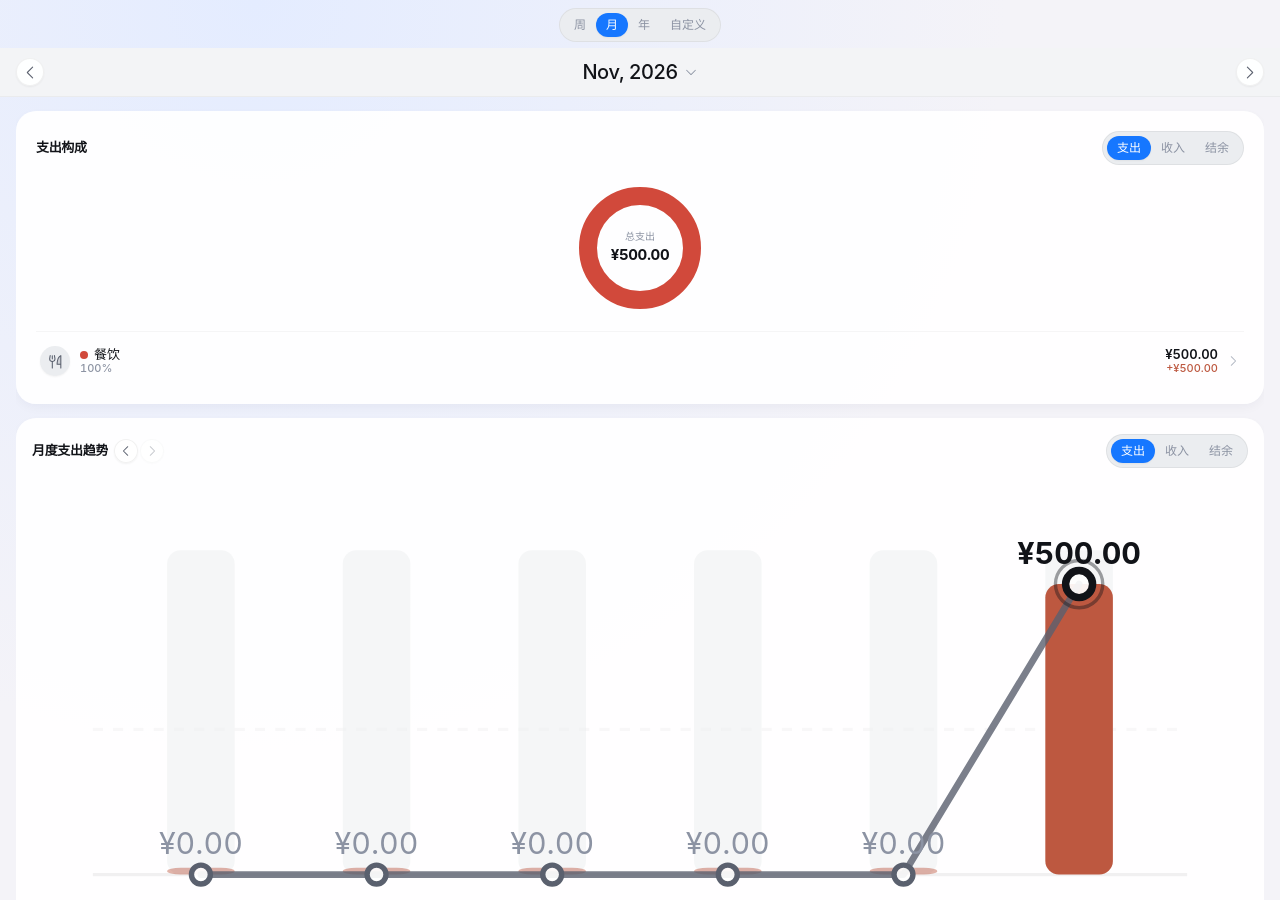
Test: Modular Stats & UI Components › supports custom date range mode and opens date picker modal on center date click
Click the button "自定义" at coordinates (688, 25), box [660,13,716,37]
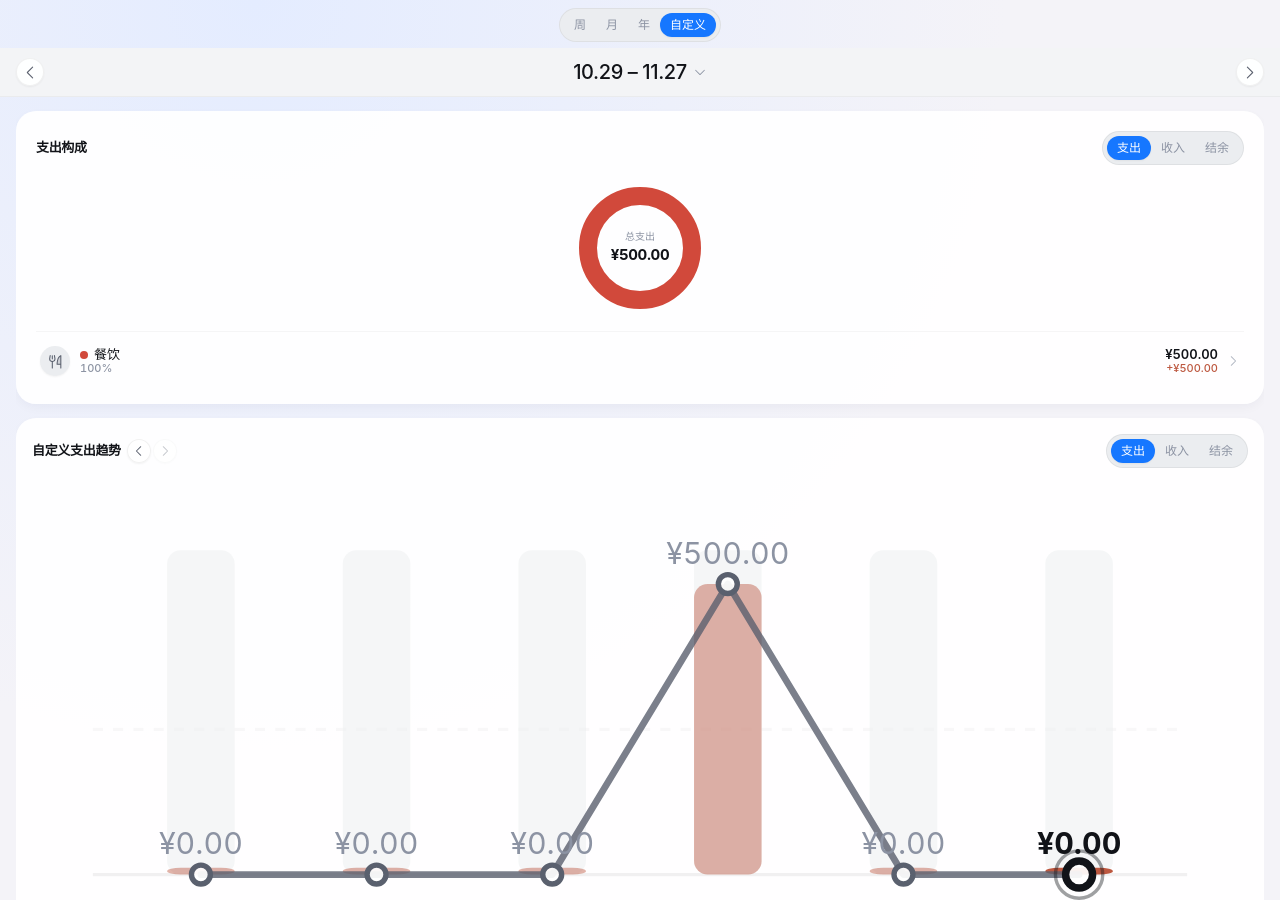
Click the button titled "点击选择日期" at coordinates (640, 72), box [563,54,717,90]
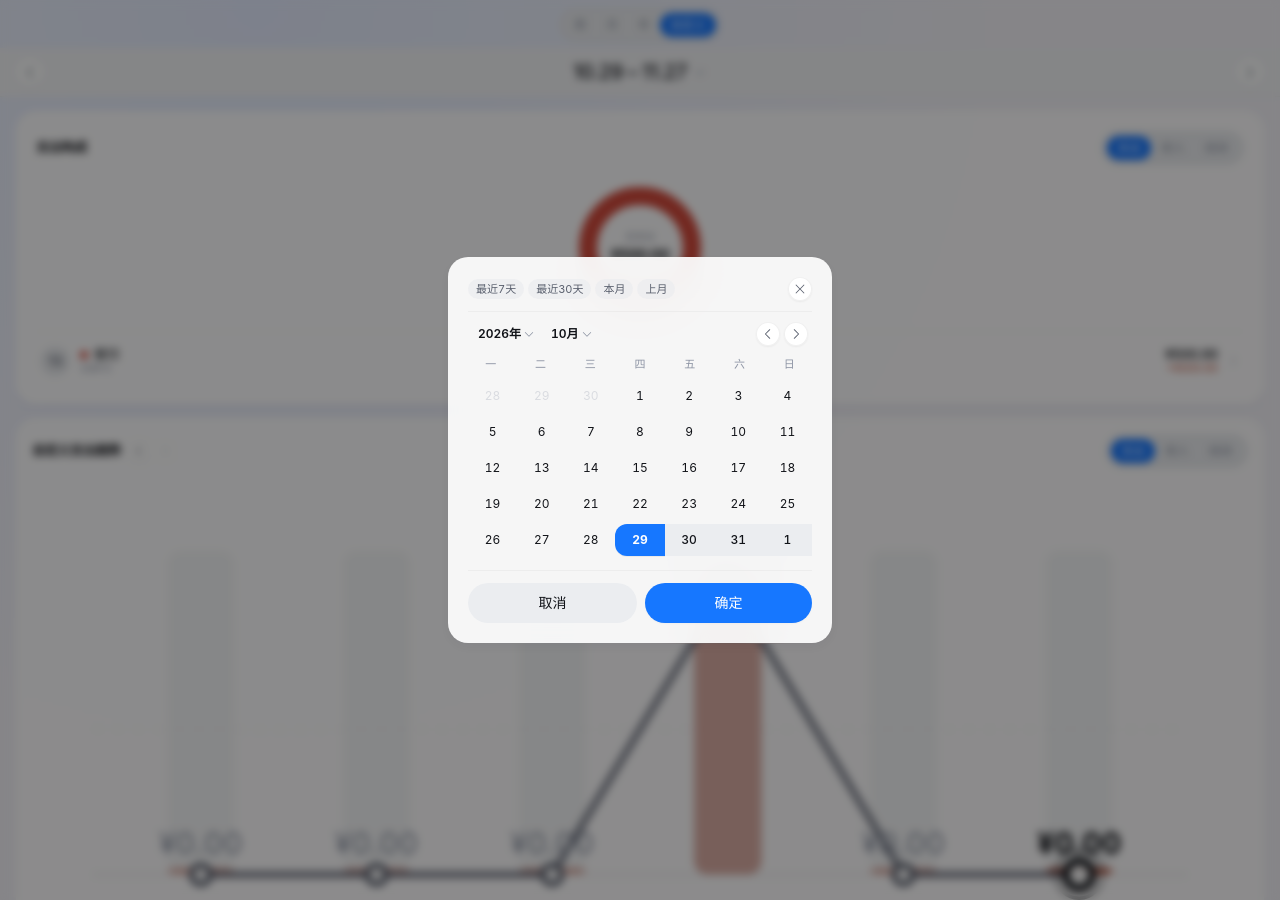
expect the button "最近7天" is shown: met, box [468,278,524,299]
